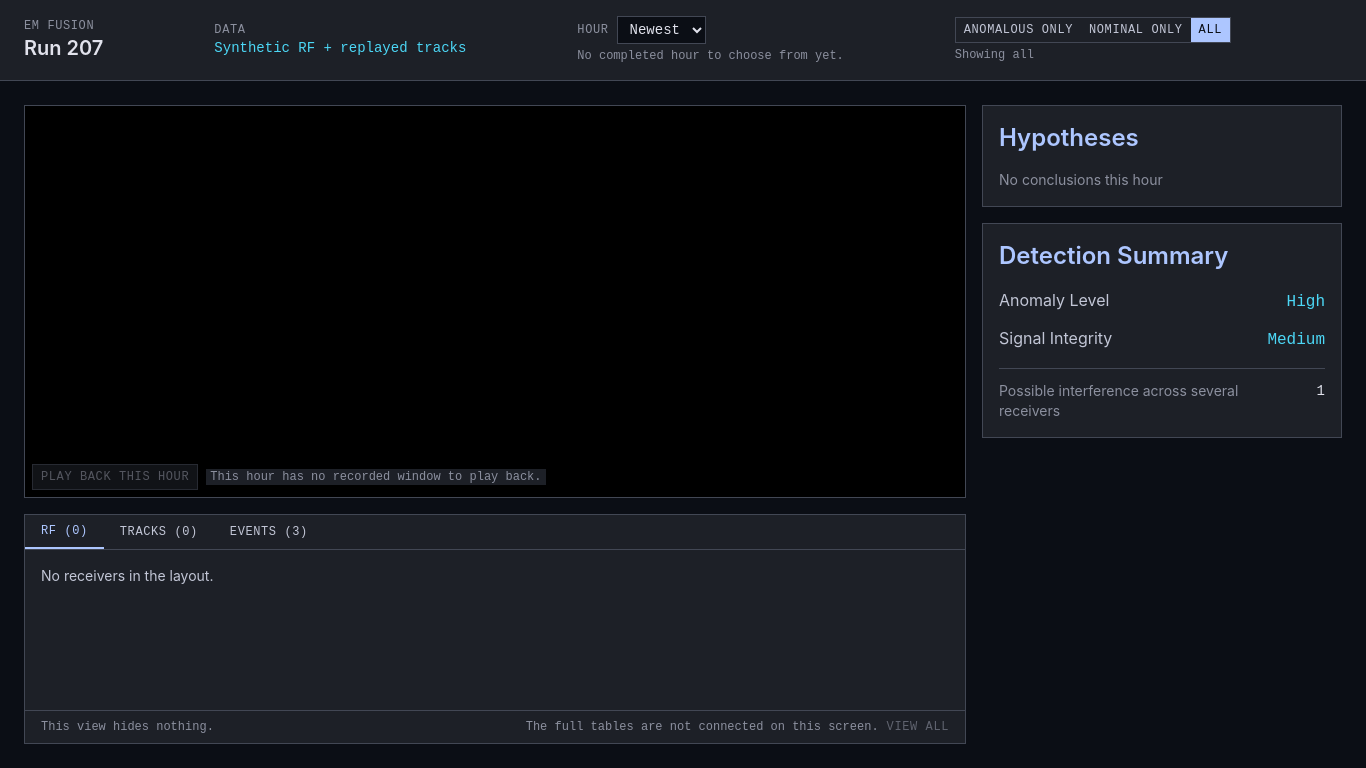
Test case: the timeline strip › orders by event time whatever order the payload used
This screenshot has width=1366, height=768.
Click the tab "Events (3)" at x=269, y=532, box 214,515 -> 324,549
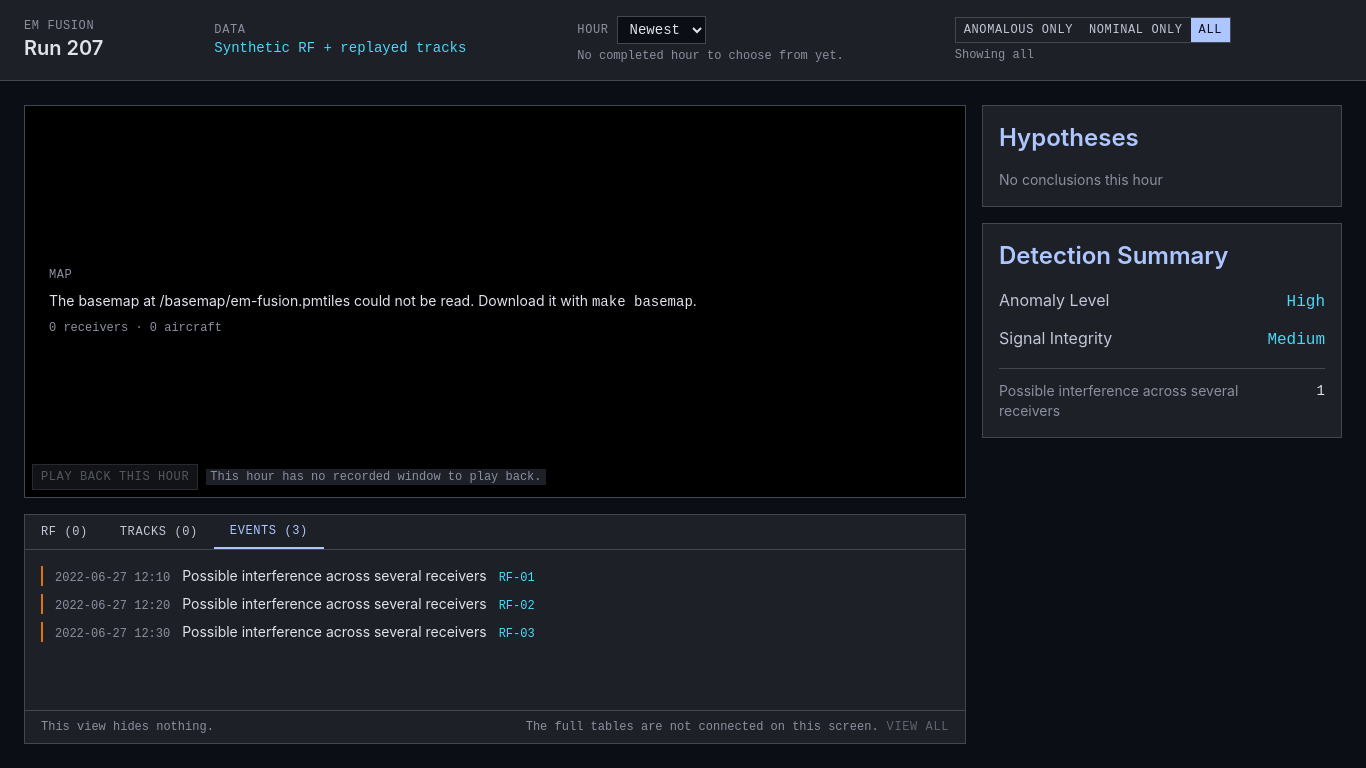
Result: the 1st list item shows "RF-01" at 499,571 -> 535,585
Result: the 2nd list item shows "RF-02" at 499,599 -> 535,613
Result: the 3rd list item shows "RF-03" at 499,627 -> 535,641
